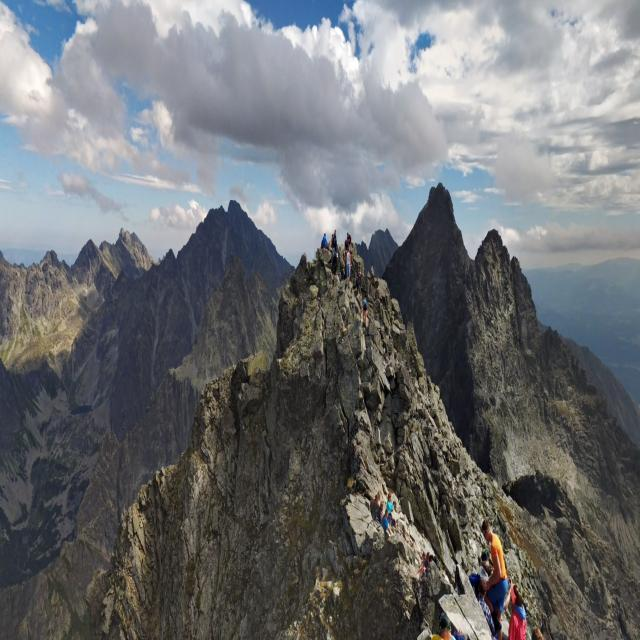Bradavica: (106, 195, 150, 272)
Ganek: (196, 212, 275, 318)
Gerlachovsky Stit: (184, 140, 278, 264)
Koncista: (351, 206, 413, 264)
Rysy: (268, 172, 407, 336)
Vysoka: (404, 135, 477, 240)
